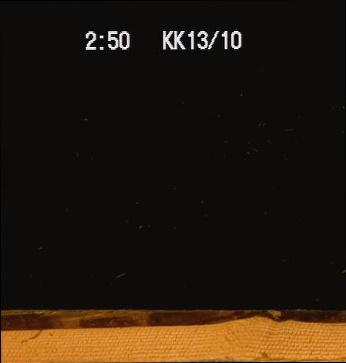wave: (0, 308, 345, 328)
